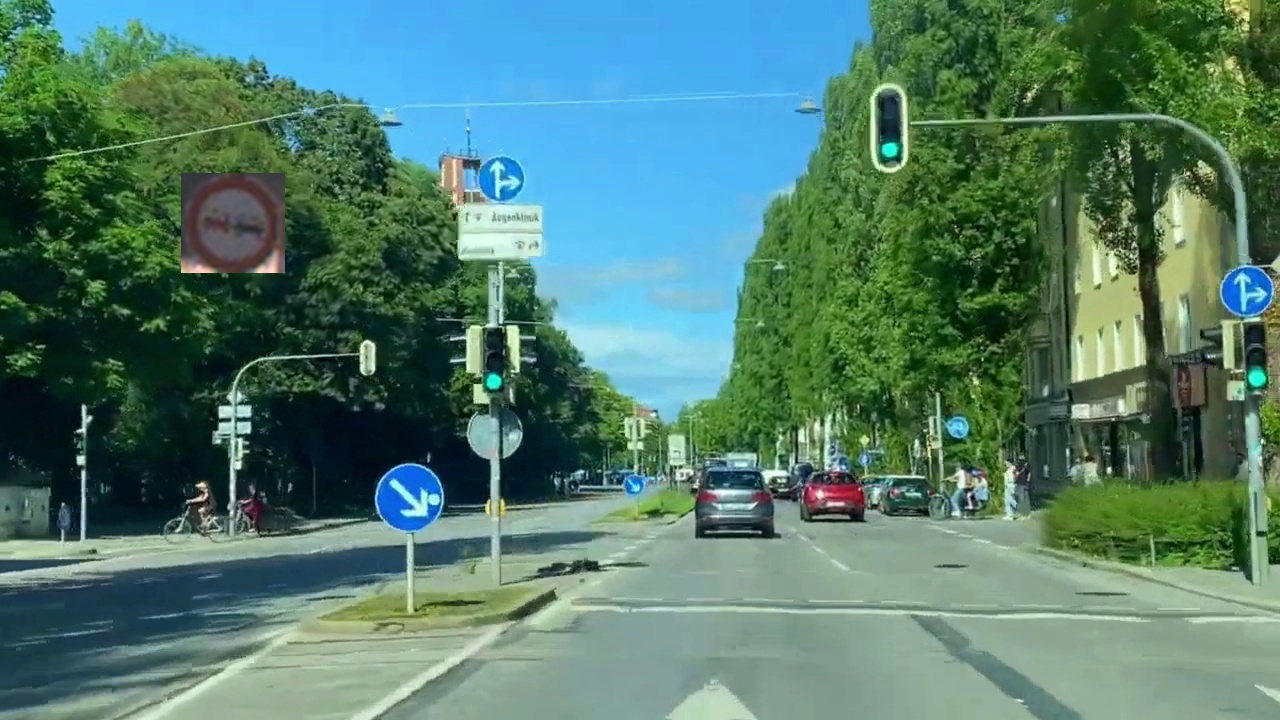No passing: (181, 173, 285, 273)
